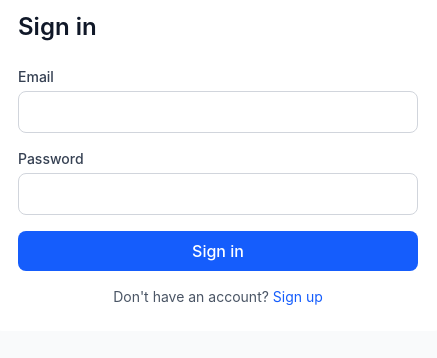
Test case: LoginPage › shows server error message on 401 UNAUTHORIZED
Type "test@example.com" into the field labelled "Email" at point(218, 112), box [18, 91, 418, 133]
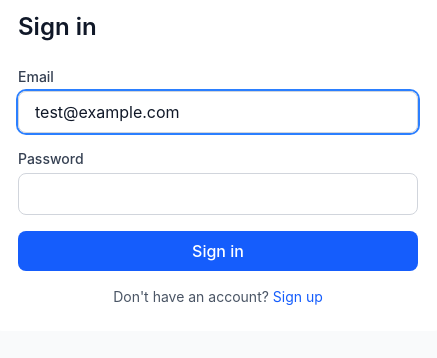
Type "wrongpass" into the password field labelled "Password" at point(218, 194), box [18, 173, 418, 215]
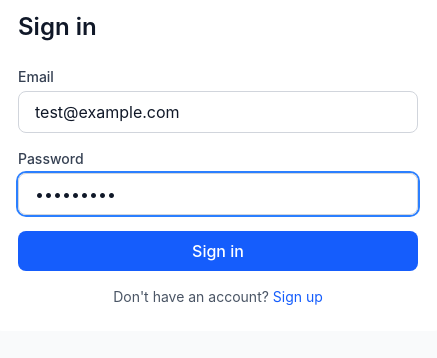
Click the button "Sign in" at point(218, 251), box [18, 231, 418, 271]
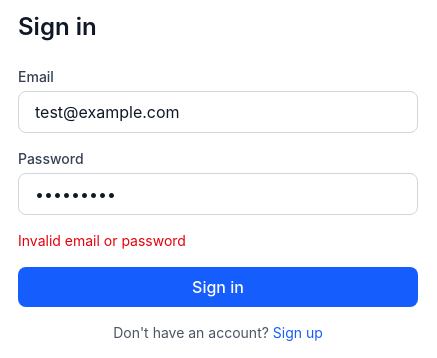
Expected: the message reads "Invalid email or password", [18, 232, 186, 249]
